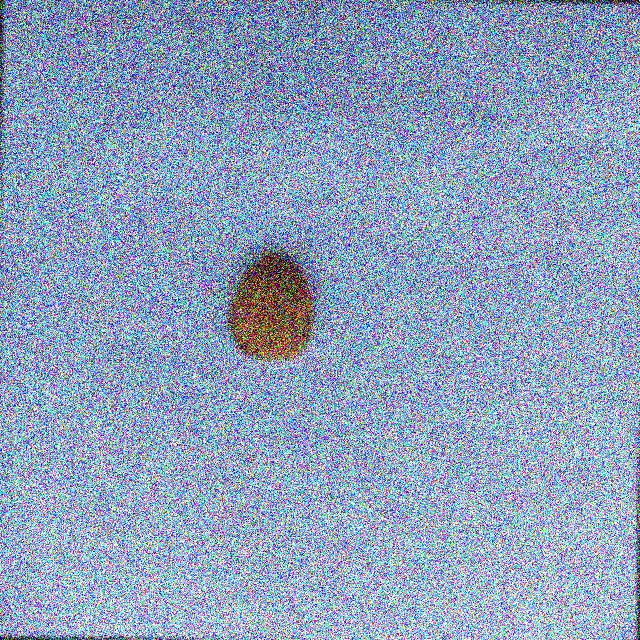grade1: (221, 246, 324, 368)
